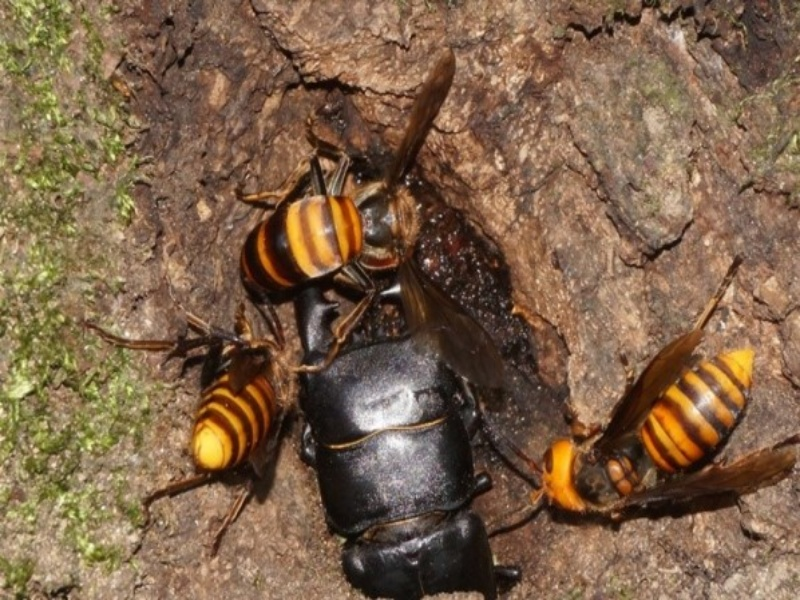asian_giant_hornet: (532, 309, 771, 528), (104, 288, 305, 518), (238, 144, 436, 296)
